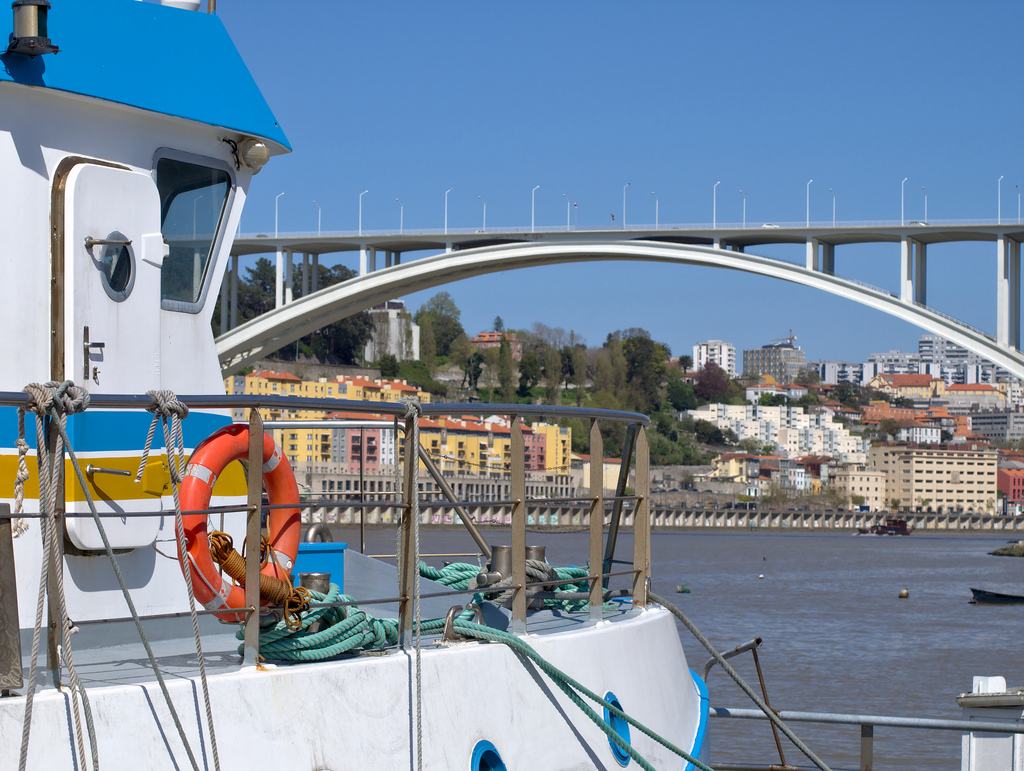arrabida: (168, 216, 1023, 381)
